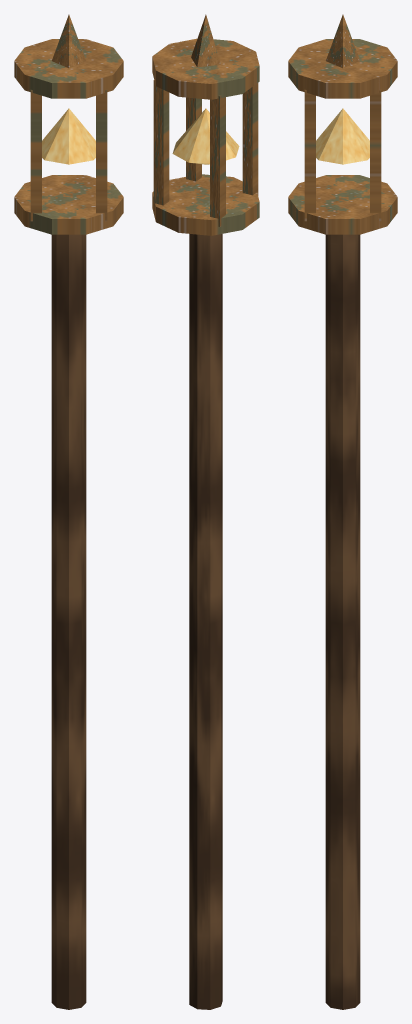
Rendered from rival_wren_staff.obj.
3 views of the same model, side by side, from view 1: azimuth 90°, elevation 25°; view 2: azimuth 150°, elevation 25°; view 3: azimuth 270°, elevation 25° (orthographic).
Parts seen in each view (by area): view 1: rival_wren_staff; view 2: rival_wren_staff; view 3: rival_wren_staff.
Boxes of the visible parts, box(x1,y1,x2,y2) form: rival_wren_staff: box(14, 14, 123, 1009); rival_wren_staff: box(152, 14, 259, 1009); rival_wren_staff: box(288, 14, 397, 1009).
Size of the model in its own units: 0.2258 by 2.36 by 0.2374.
